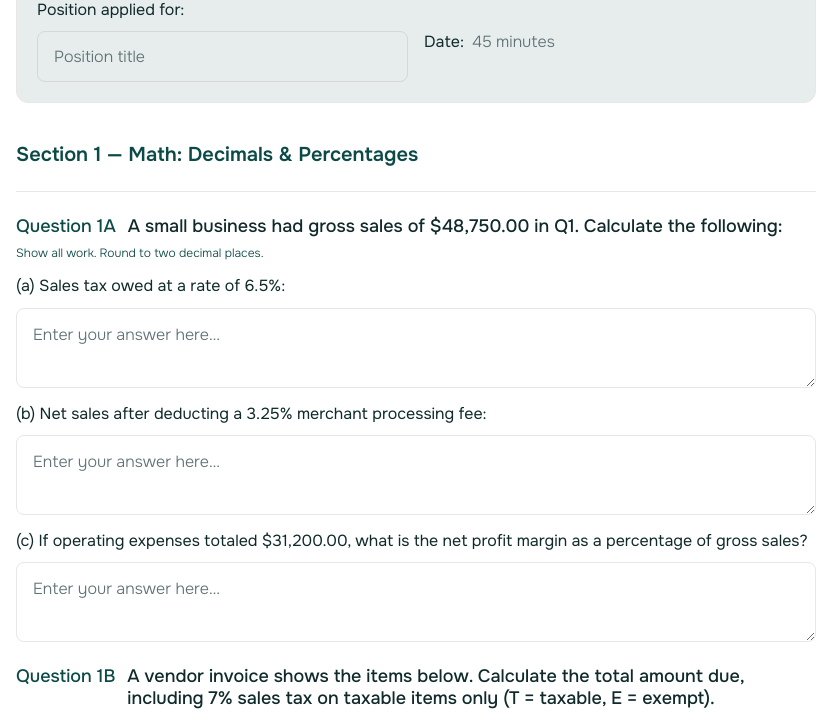
Test: renders every Figma question and autosaves answers as drafts
The image size is (833, 722).
(page scrolled)
Type "$3,168.75" into the text box labelled "(a) Sales tax owed at a rate of 6.5%:" at (416, 348), box x1=16 y1=308 x2=816 y2=388
(page scrolled)
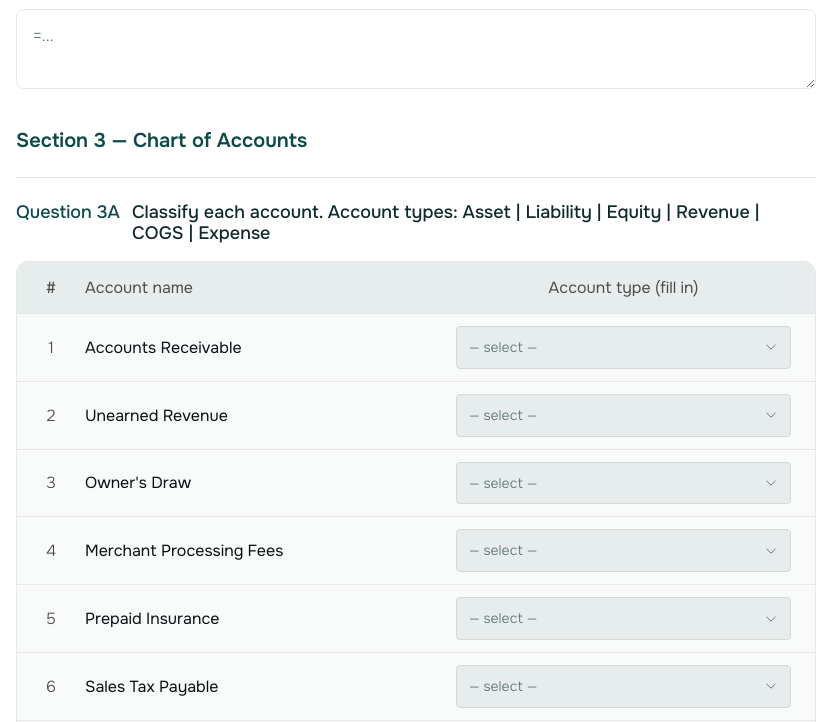
Select "Asset" in the dropdown named "Accounts Receivable — Account type (fill in)" at (624, 347), box x1=456 y1=326 x2=791 y2=369
(page scrolled)
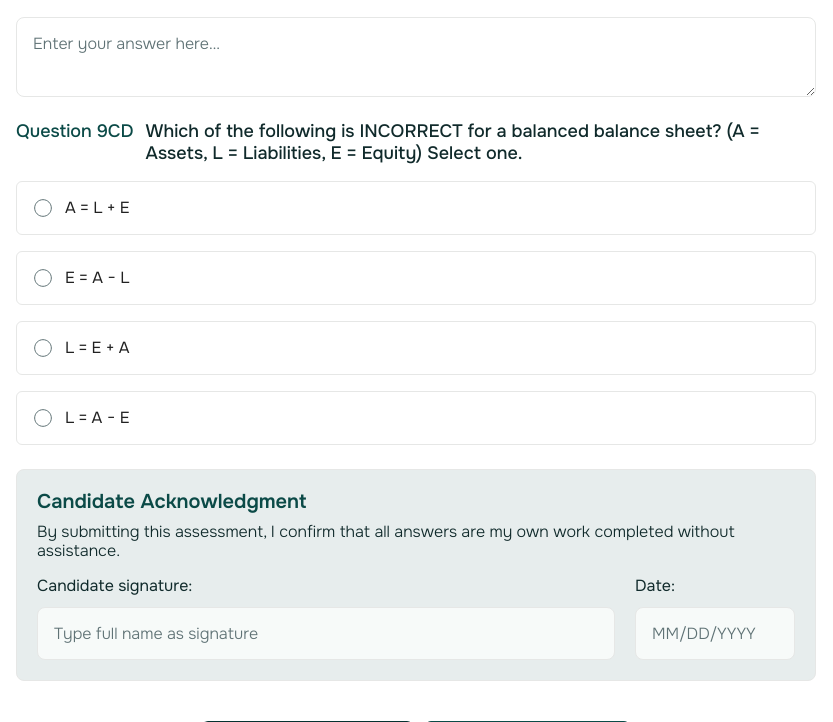
Click the radio button labelled "L = E + A" at (97, 348), box x1=16 y1=321 x2=816 y2=375
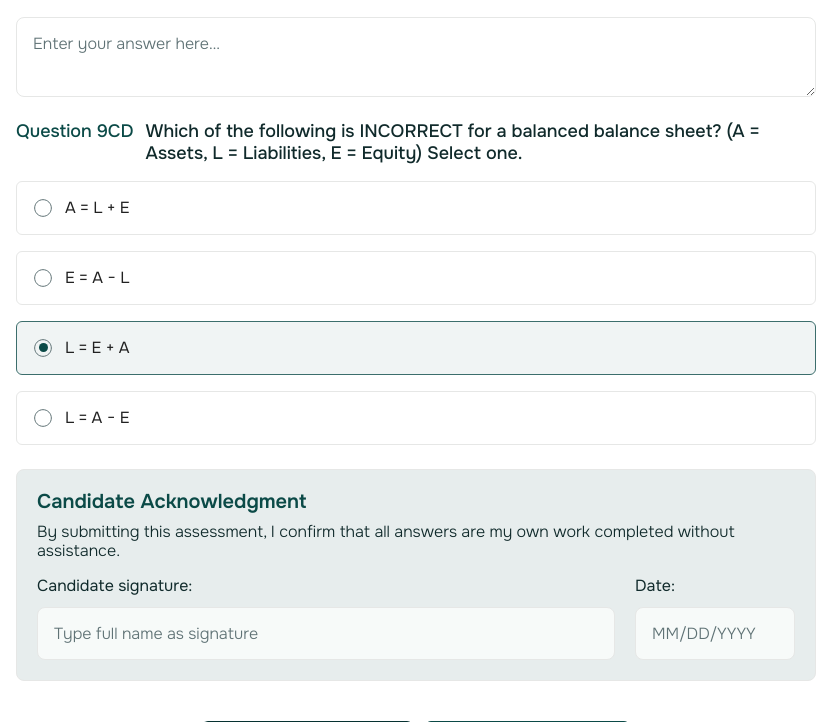
Check: the radio button labelled "L = E + A" is checked, box x1=16 y1=321 x2=816 y2=375
